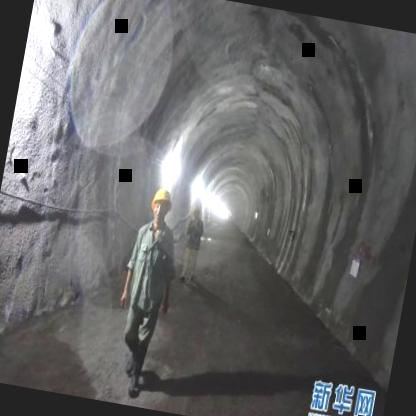helmet: (146, 184, 175, 230)
